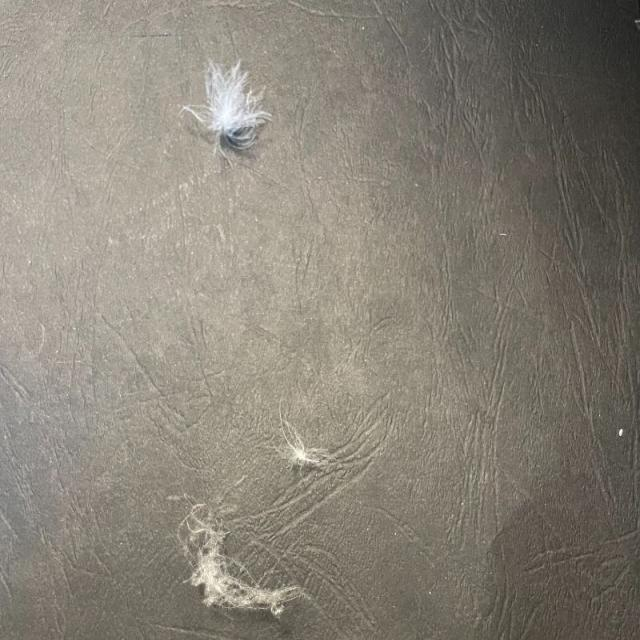feather: (176, 513, 297, 610), (181, 52, 267, 152), (274, 417, 338, 472)
